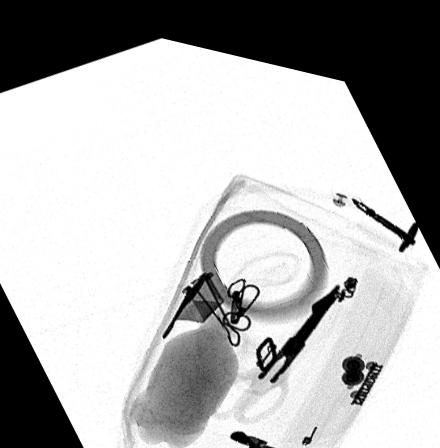Scissors: (199, 266, 341, 414)
